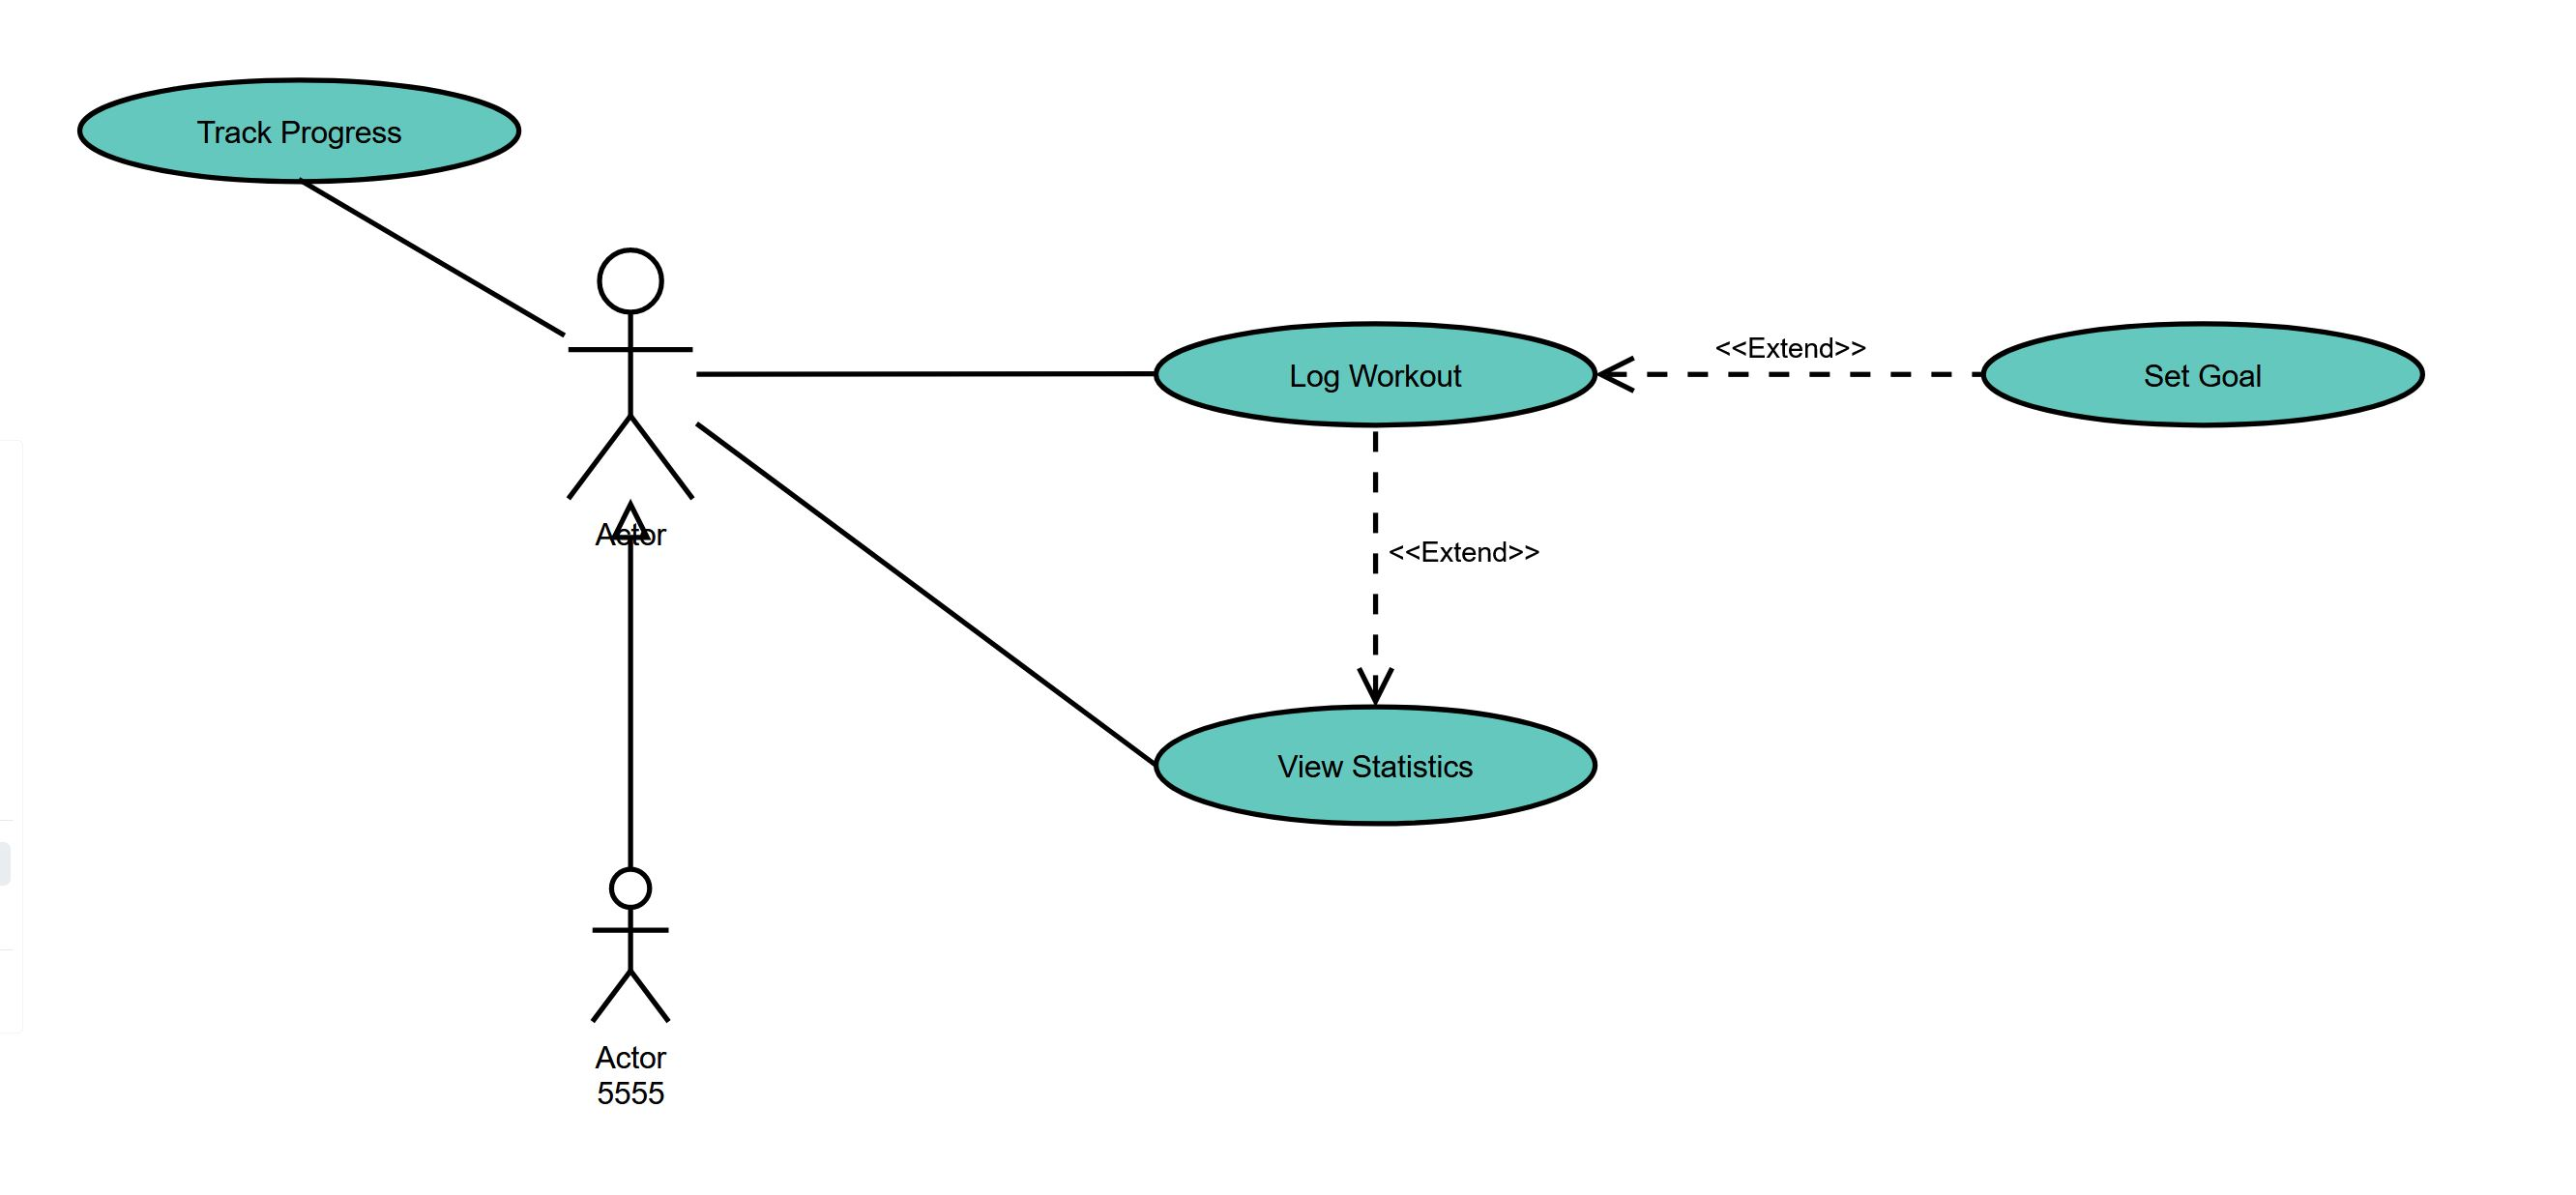actor: (570, 243, 688, 508), (582, 861, 682, 1036)
association: (697, 419, 1148, 761), (307, 181, 572, 340), (697, 340, 1152, 399), (1597, 347, 1978, 394), (609, 501, 654, 858), (1350, 429, 1401, 700)
text: (1265, 743, 1495, 797), (1276, 340, 1474, 401), (184, 108, 432, 153), (544, 1037, 688, 1111), (1712, 317, 1873, 367), (2121, 347, 2269, 398), (1383, 524, 1548, 569), (550, 513, 700, 552)
use_case: (1138, 700, 1598, 830), (1973, 316, 2430, 434), (74, 71, 521, 191), (1148, 317, 1600, 431)
